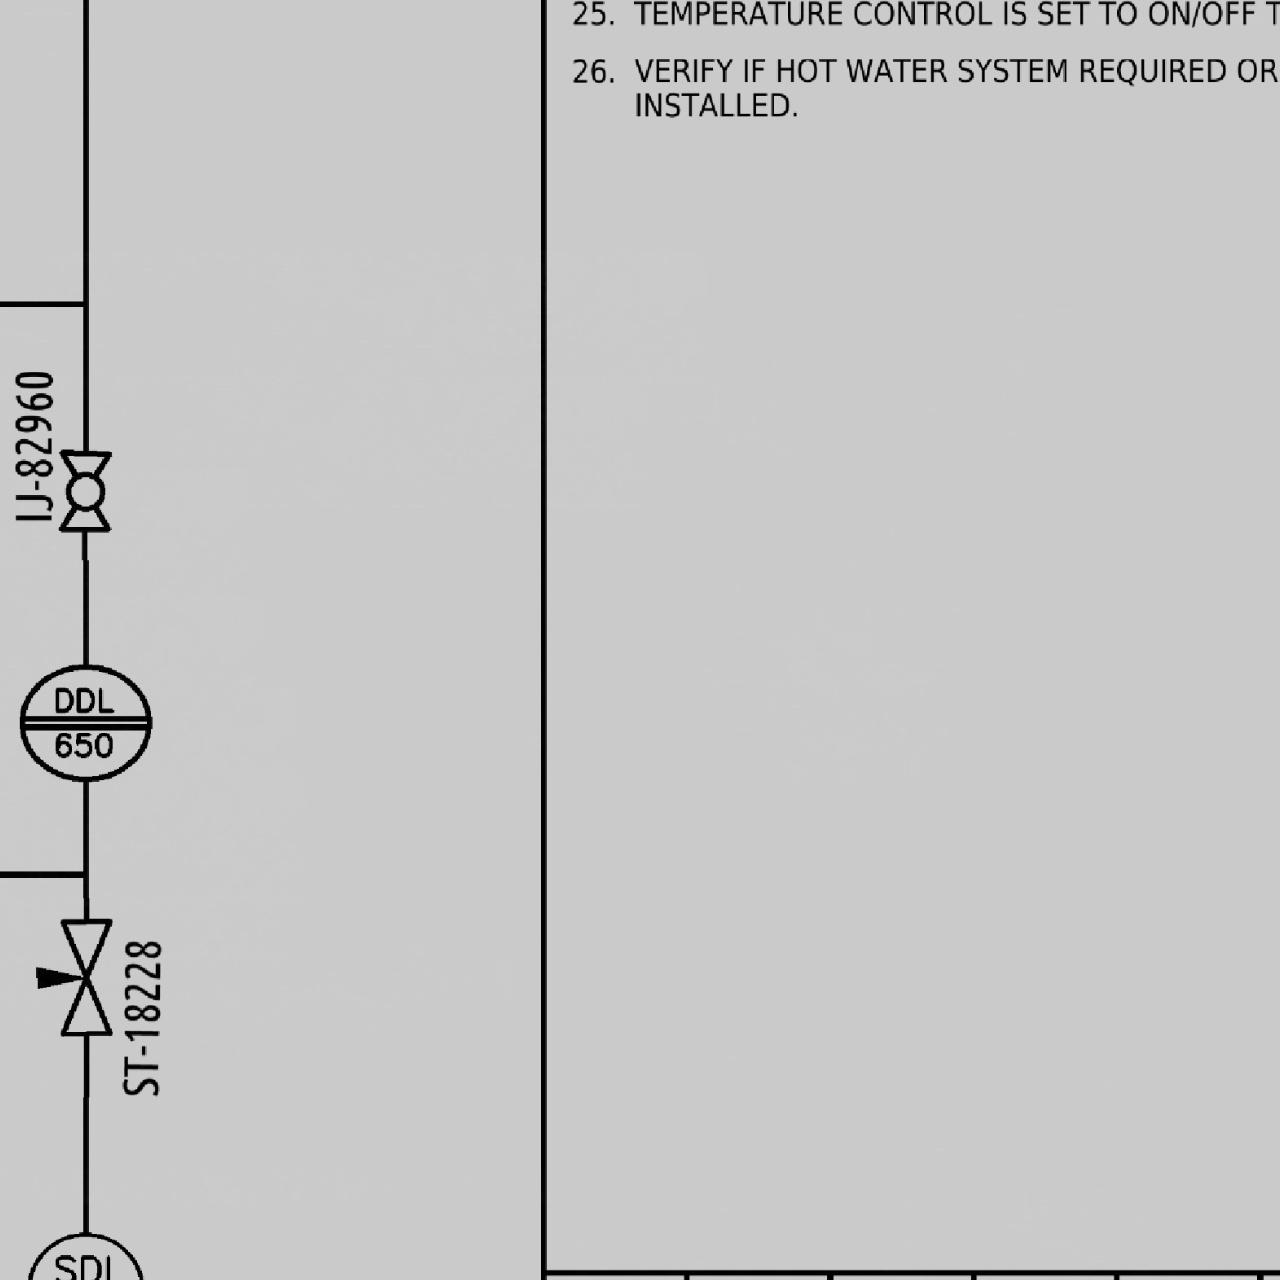Control-Panel: (14, 652, 154, 792)
